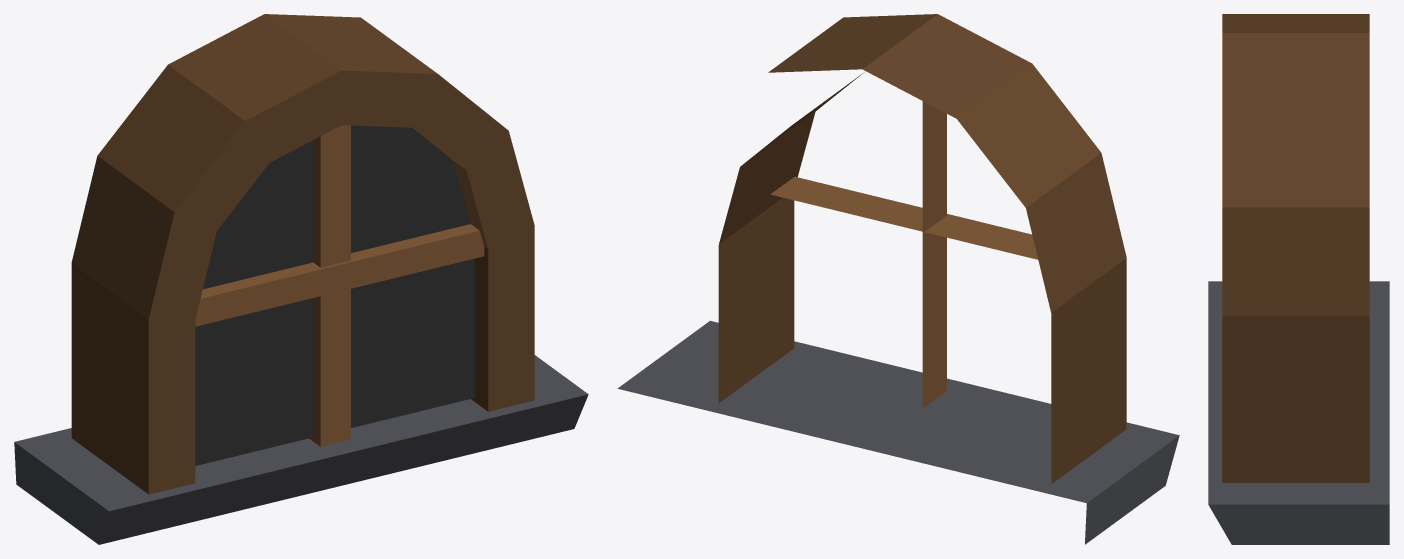
The model's file is Window_2.gltf.
3 renders of one model, left to right at view 1: azimuth 30°, elevation 25°; view 2: azimuth 150°, elevation 25°; view 3: azimuth 270°, elevation 25°, orthographic. The views are drawn at different scales.
Parts seen in each view (by area): view 1: Window_2; view 2: Window_2; view 3: Window_2.
Boxes of the visible parts, x1,y1,x2,y2 form: Window_2: (14, 14, 588, 544); Window_2: (617, 14, 1179, 544); Window_2: (1208, 14, 1389, 544).
Bounding box in the file's own units: 0.447 × 0.3742 × 0.1532.
